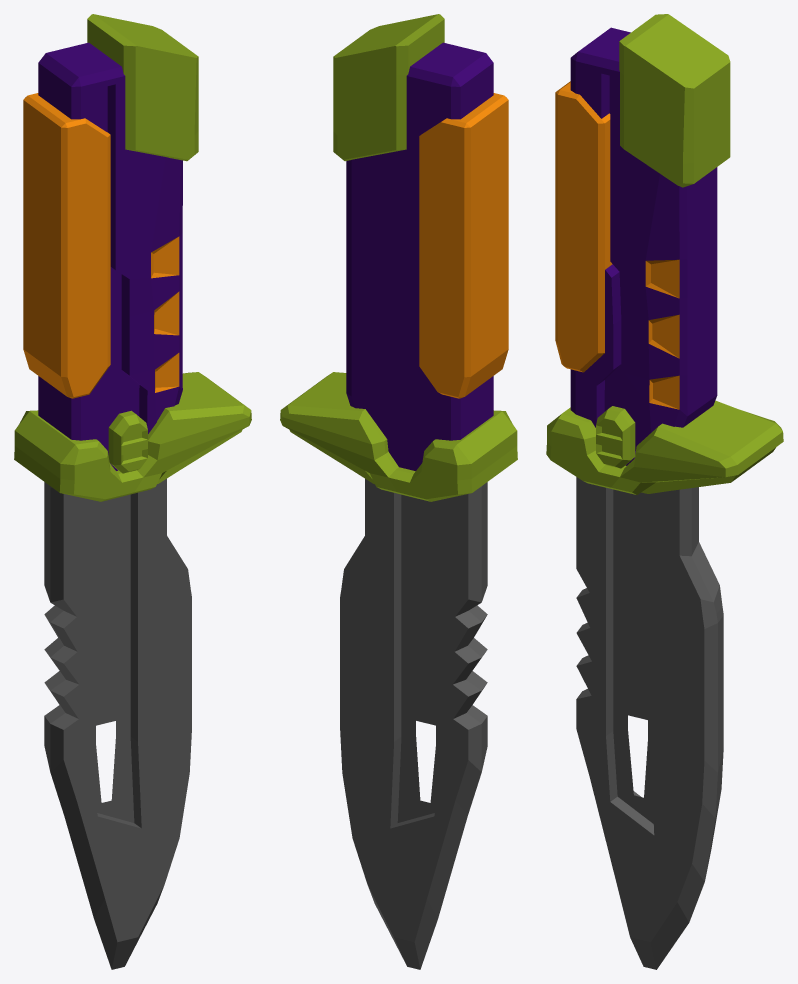
File: Knife.fbx
3 views of the same model, side by side, from view 1: azimuth 30°, elevation 25°; view 2: azimuth 150°, elevation 25°; view 3: azimuth 330°, elevation 25° (orthographic).
Parts seen in each view (by area): view 1: Cube.025, Cube.006, Cube.008; view 2: Cube.025, Cube.006; view 3: Cube.025, Cube.006, Cube.008.
Boxes of the visible parts, bbox=[...] form: Cube.025: bbox=[14, 14, 251, 501]; Cube.006: bbox=[44, 478, 191, 969]; Cube.008: bbox=[108, 410, 147, 473]; Cube.025: bbox=[280, 14, 517, 501]; Cube.006: bbox=[340, 479, 487, 969]; Cube.025: bbox=[546, 14, 783, 494]; Cube.006: bbox=[576, 477, 723, 969]; Cube.008: bbox=[596, 406, 635, 468].
Size of the model in its own units: 395 by 1846 by 201.
